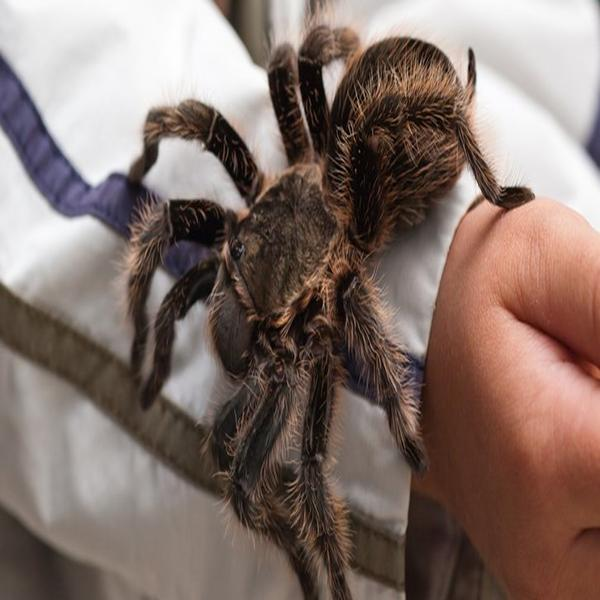Tarantula_Spider: (128, 27, 534, 600)
